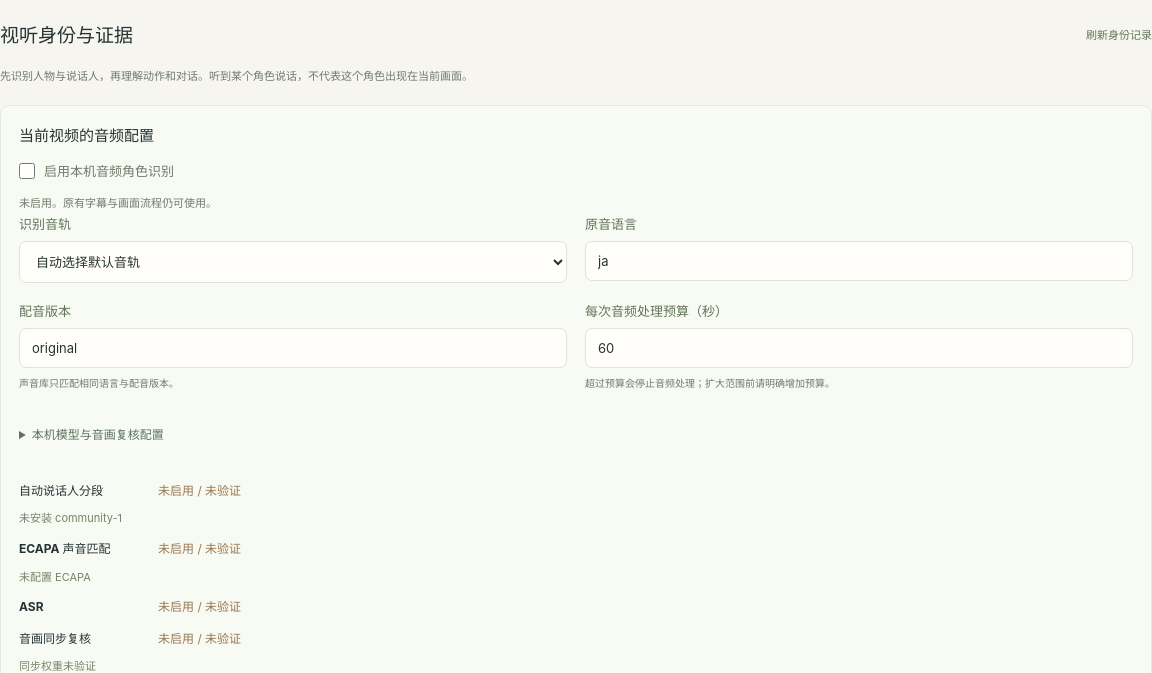
Test case: Audiovisual identity workflow › saves explicit language and dub scope, then reports unavailable instead of claiming success
The image size is (1152, 673).
Expected: the heading "视听身份与证据" is shown, 0,20 -> 133,47
Step 1. Click the checkbox labelled "启用本机音频角色识别" → (27, 171), box 19,163 -> 35,179
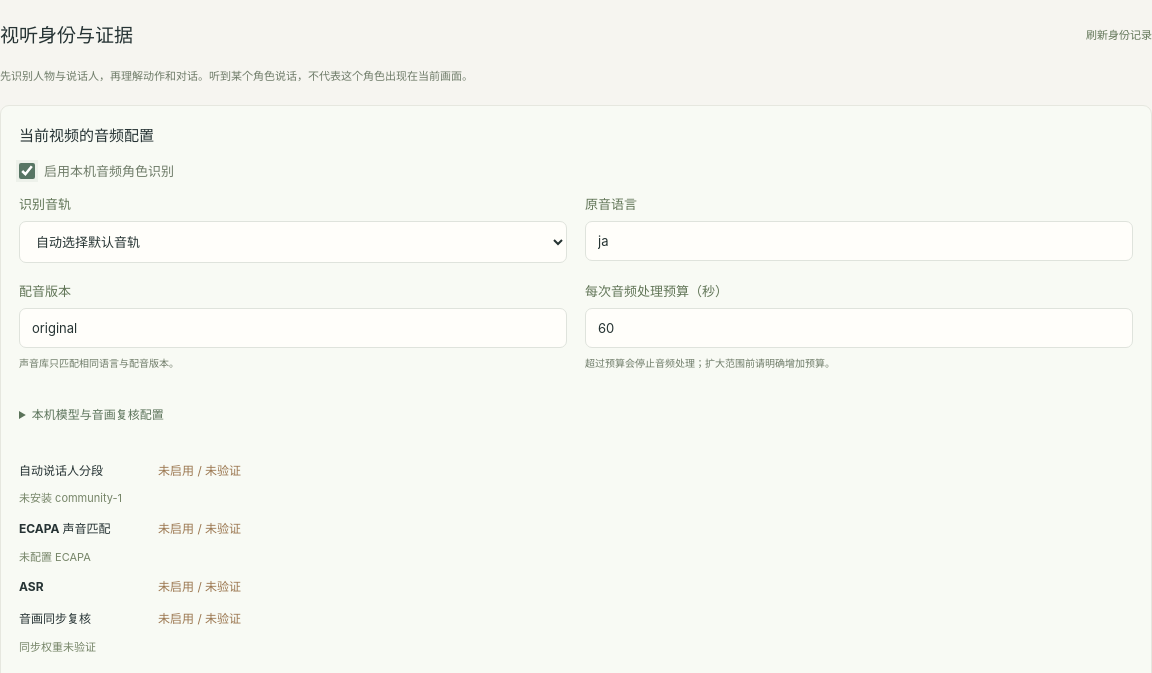
Step 2. Replace the text in the field labelled "原音语言" with "zh" → (859, 241), box 585,221 -> 1133,261
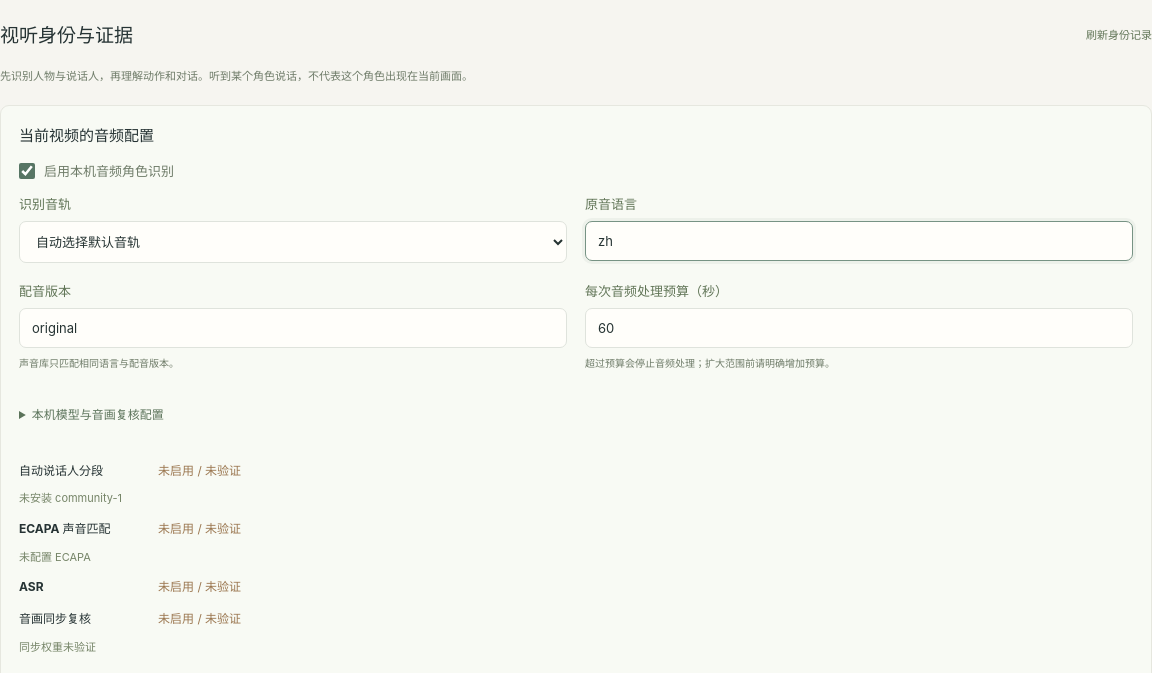
Step 3. Type "mandarin-2026" into the field labelled "配音版本 声音库只匹配相同语言与配音版本。" → (293, 328), box 19,308 -> 567,348
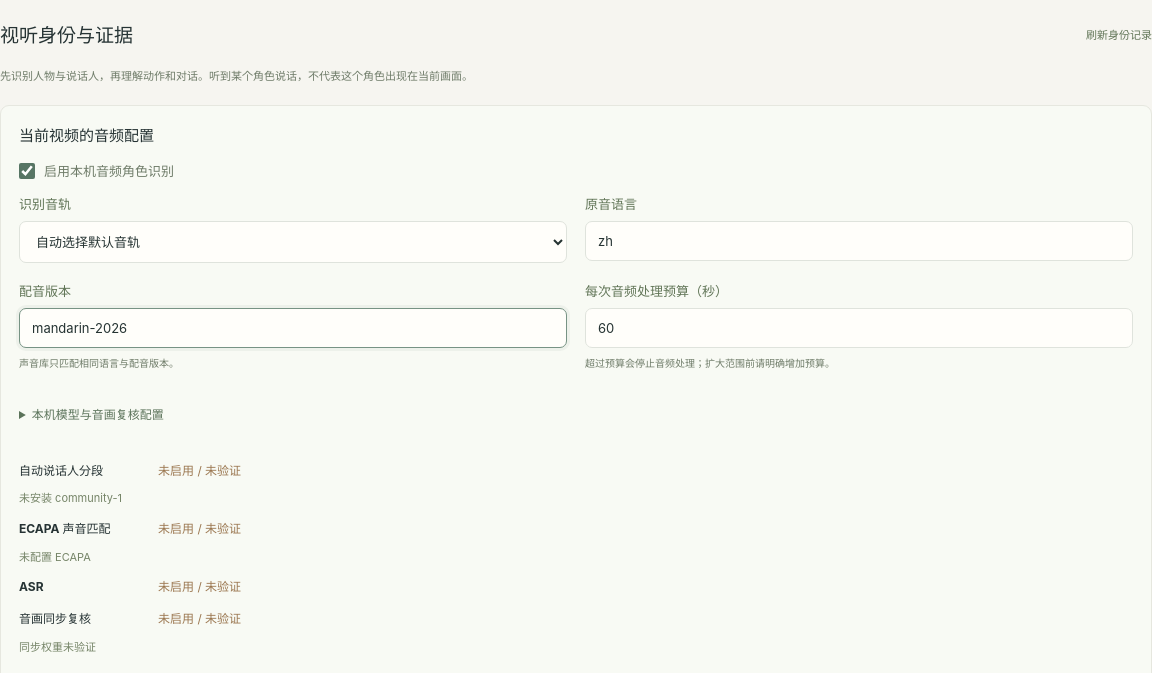
Step 4. Select "音轨 1 · ja · 日语 · 默认 · 起点 350 ms" in the dropdown labelled "识别音轨" → (293, 242), box 19,221 -> 567,263
(page scrolled)
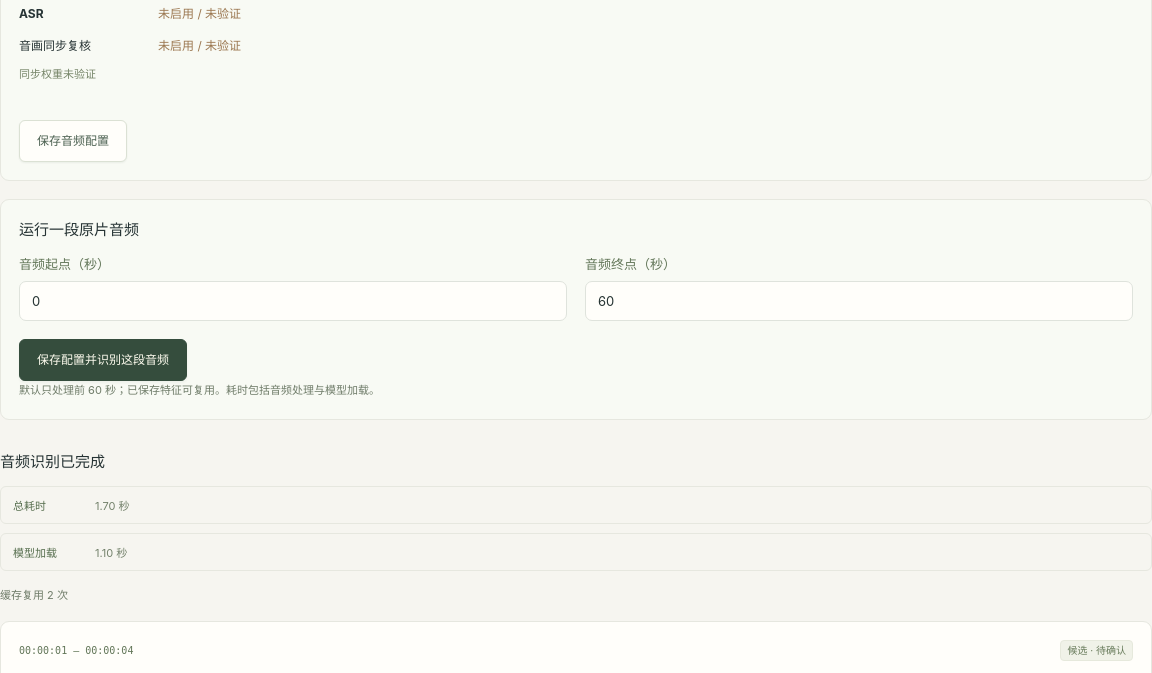
Step 5. Click the button "保存配置并识别这段音频" → (103, 360), box 19,339 -> 187,381
(page scrolled)
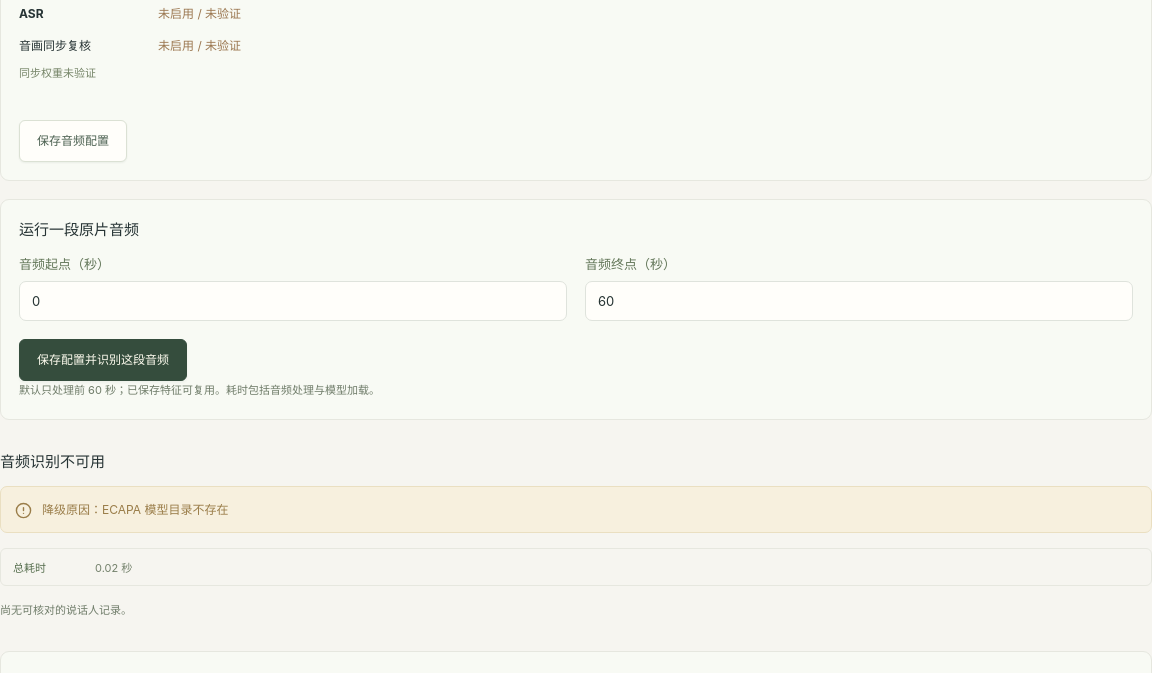
Result: the text "降级原因：ECAPA 模型目录不存在" is shown at 42,499 -> 228,520
